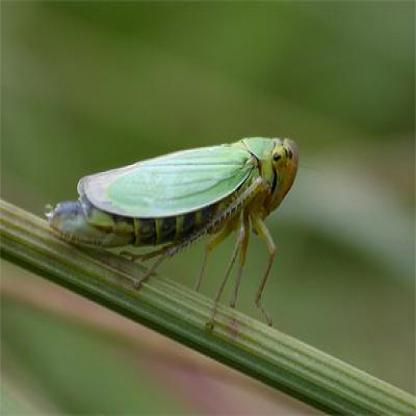Green-Leafhopper: (42, 131, 303, 334)
